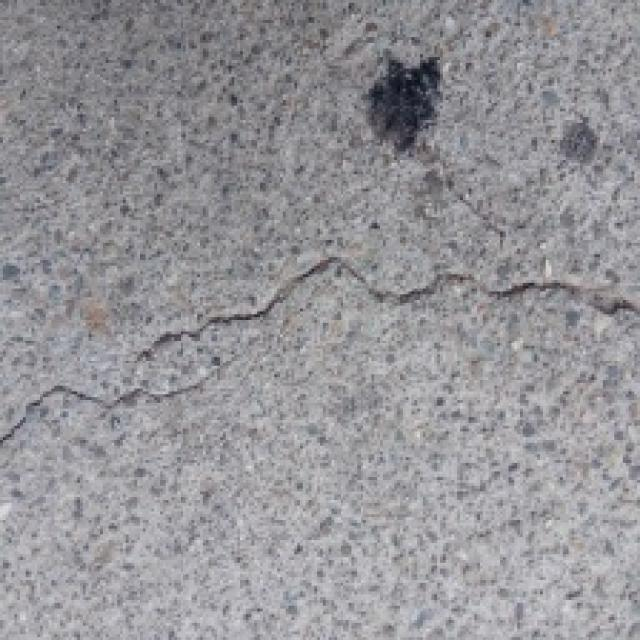crack: (0, 234, 640, 478)
